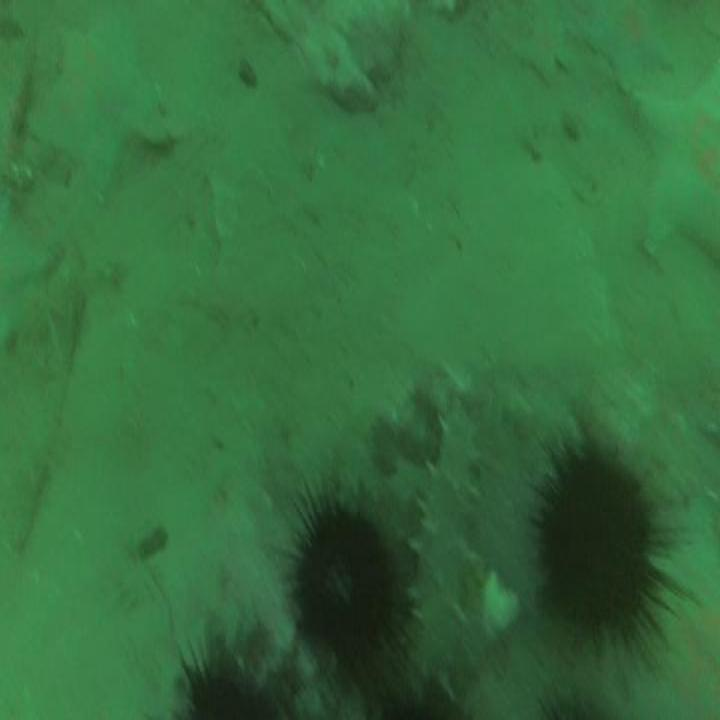echinus: (537, 448, 652, 638), (295, 512, 397, 660)
holothurian: (412, 407, 478, 686)
starfish: (29, 18, 168, 192), (640, 71, 720, 256), (583, 0, 676, 89), (520, 20, 571, 87)
